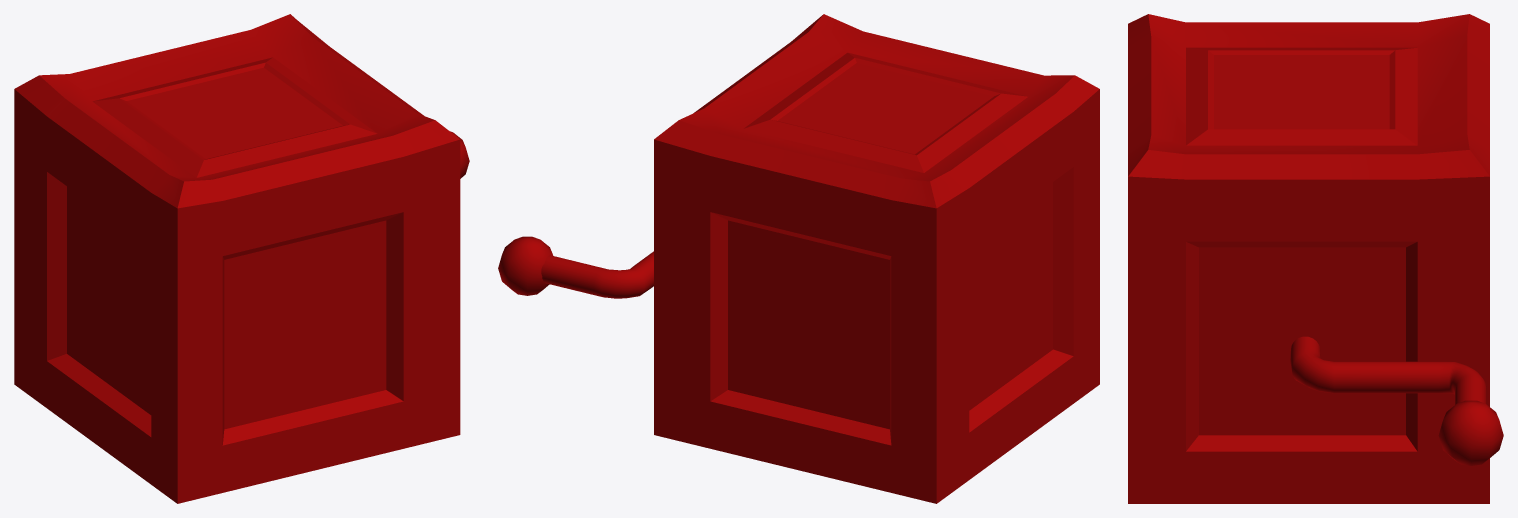
Rendered from JackinTheBox_GEO.fbx.
The picture shows the model from 3 angles, left to right: view 1: azimuth 30°, elevation 25°; view 2: azimuth 150°, elevation 25°; view 3: azimuth 270°, elevation 25°; orthographic projection. The views are drawn at different scales.
Visible parts, largest first — view 1: jackInaBox_GEO_mb_011; view 2: jackInaBox_GEO_mb_011; view 3: jackInaBox_GEO_mb_011.
Part boxes in pixels (x1,y1,x2,y2): jackInaBox_GEO_mb_011: (14, 14, 469, 503); jackInaBox_GEO_mb_011: (498, 14, 1099, 503); jackInaBox_GEO_mb_011: (1128, 14, 1503, 503).
Bounding box in the file's own units: 58.55 × 39.37 × 38.78.
